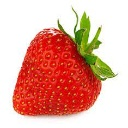strawberry: (9, 22, 111, 117)
